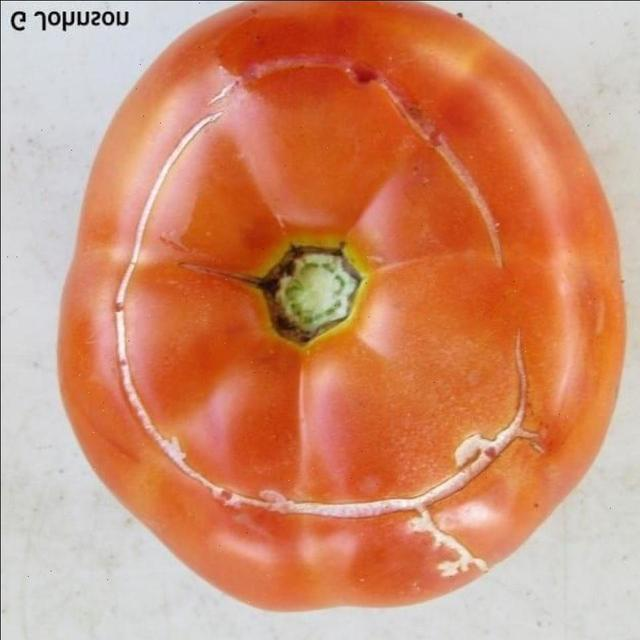Cracking Fruit: (65, 58, 295, 365)
